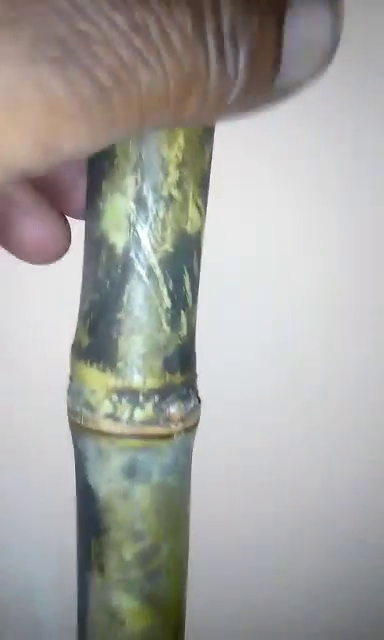cane eye: (162, 395, 191, 426)
